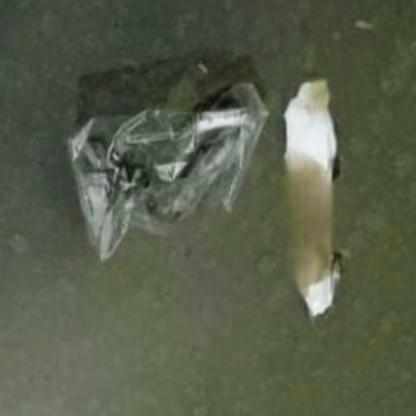Trash: (64, 79, 266, 262), (281, 74, 343, 326)
